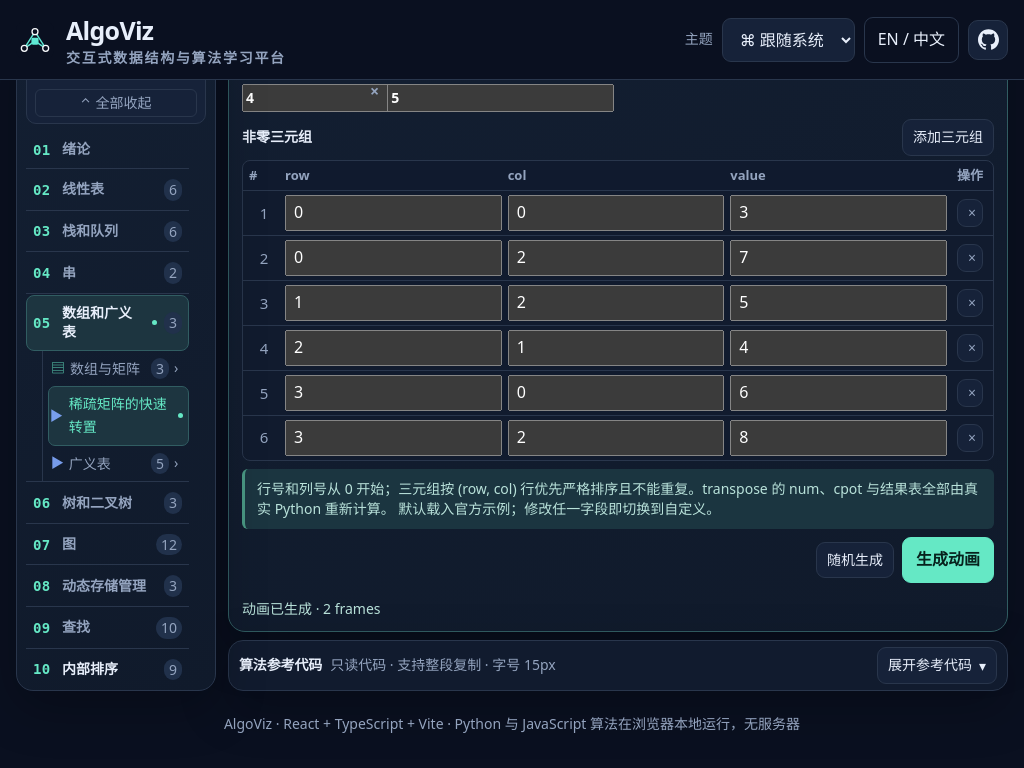
INPUT-07 — sparse matrix input and shared state consistency › fills random sparse data without executing and restores the official matrix
This screenshot has width=1024, height=768.
Earlier steps of the test are not shown.
Later steps or results of the test are not shown.
(page scrolled)
Click the button with test id "random-btn".
click(855, 560)  # box [816,542,894,578]
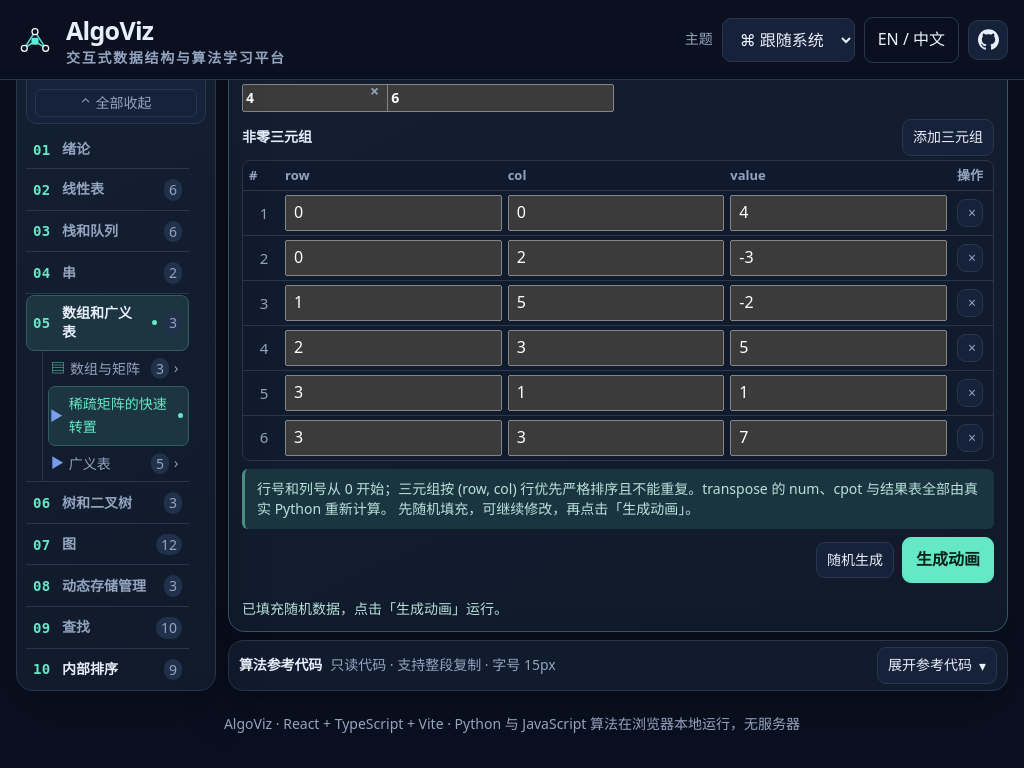
expect the row with test id "sparse-triple-row" showing "1 ×" is shown: met, box [243,191,993,235]
